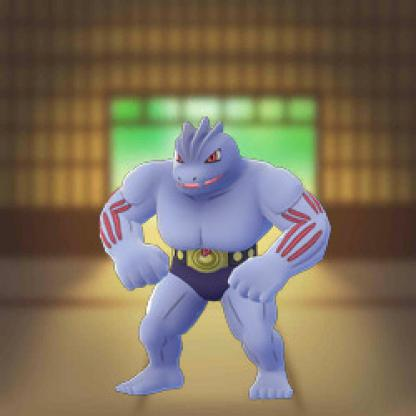Machoke: (107, 113, 334, 407)
